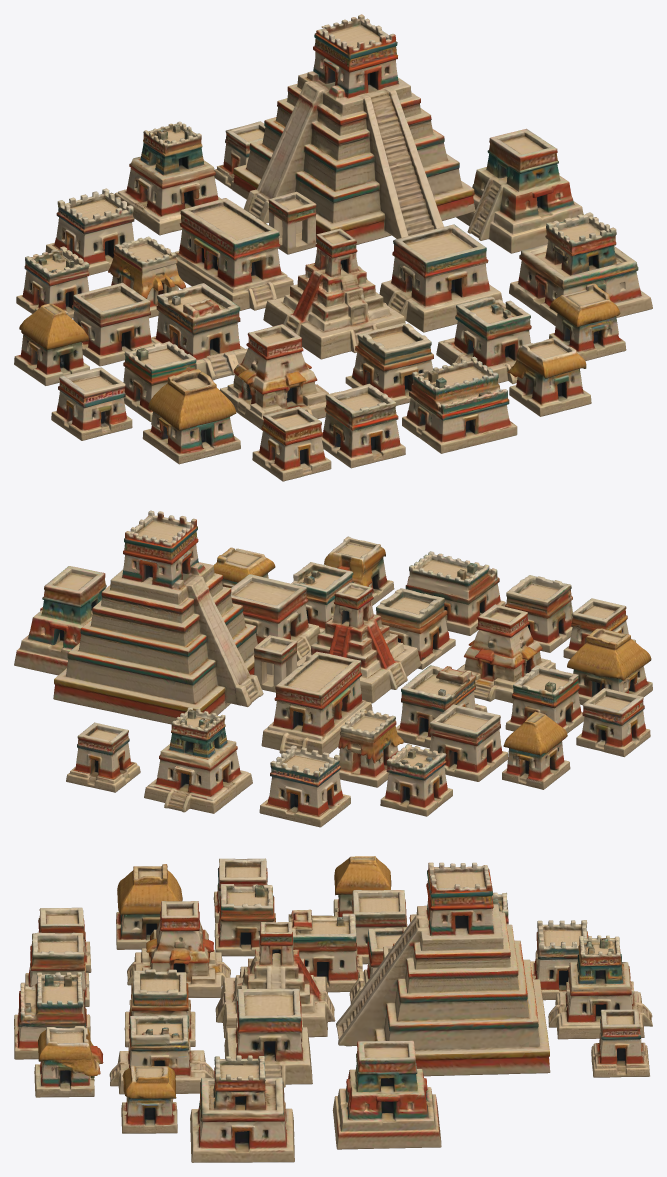
File: Medieval Town (Mesoamerican).fbx
3 views of the same model, one above another, from view 1: azimuth 30°, elevation 25°; view 2: azimuth 150°, elevation 25°; view 3: azimuth 270°, elevation 25° (orthographic). The views are drawn at different scales.
Parts seen in each view (by area): view 1: tripo_node_23788923; view 2: tripo_node_23788923; view 3: tripo_node_23788923.
Boxes of the visible parts, box(x1,y1,x2,y2) form: tripo_node_23788923: box(14, 14, 652, 481); tripo_node_23788923: box(14, 510, 652, 827); tripo_node_23788923: box(14, 856, 652, 1162).
Bounding box in the file's own units: 1 × 0.3734 × 0.9867.
